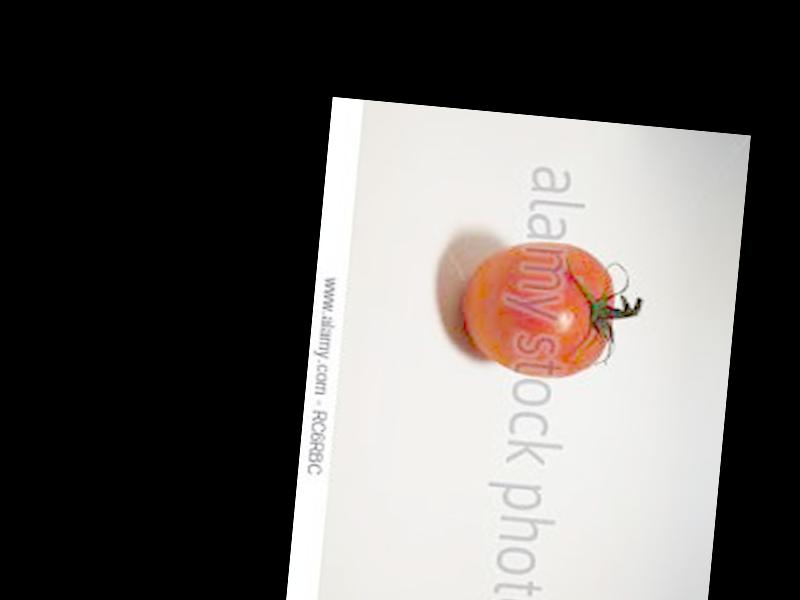Tomato: (458, 235, 621, 384)
